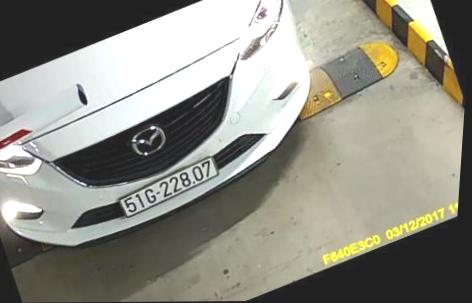License_Plate: (115, 158, 225, 222)
